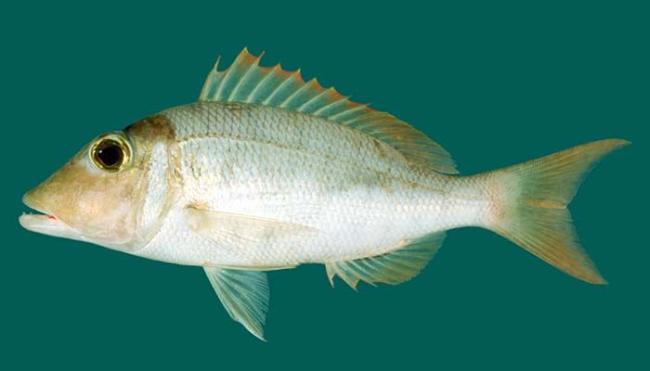fish: (17, 46, 634, 343)
